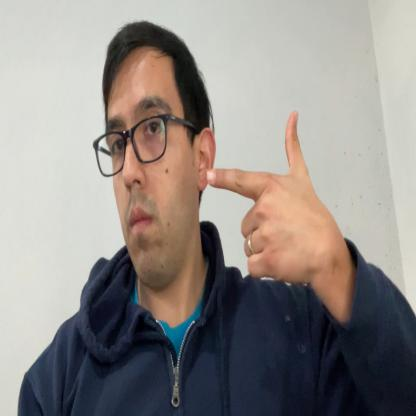G: (206, 110, 326, 284)
